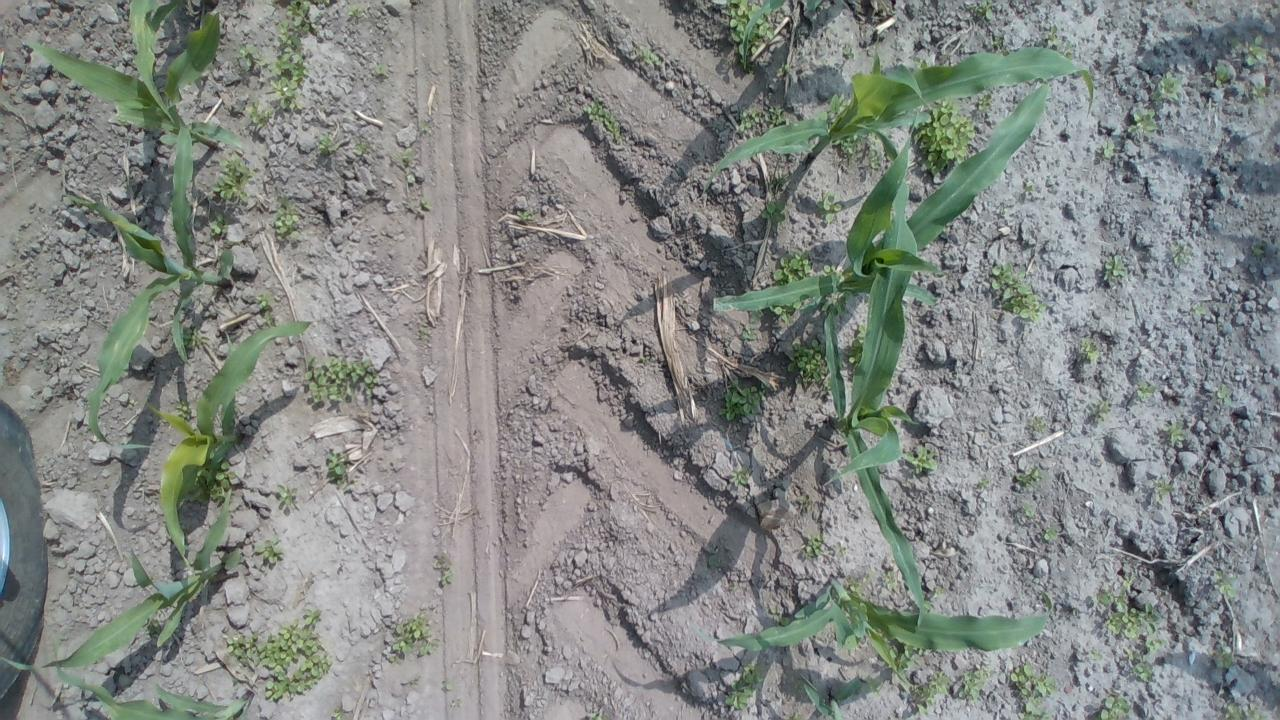Maize: (712, 82, 1050, 312), (698, 43, 1096, 190), (65, 115, 236, 452), (813, 180, 931, 630), (0, 484, 244, 674), (696, 570, 1052, 694), (145, 322, 312, 584), (19, 0, 248, 153), (49, 634, 252, 720), (738, 0, 822, 71), (795, 667, 845, 720)
Weeds: (225, 608, 333, 702), (910, 94, 976, 172), (269, 20, 315, 112), (989, 261, 1047, 322), (304, 355, 376, 404), (726, 0, 774, 62), (189, 444, 237, 503), (1009, 662, 1057, 720), (386, 612, 434, 662), (718, 380, 766, 424), (213, 154, 254, 204), (724, 664, 766, 712), (786, 340, 830, 382), (583, 99, 623, 145), (1106, 604, 1158, 639), (914, 671, 951, 716), (736, 103, 788, 132), (772, 248, 812, 284), (959, 664, 991, 706), (1096, 576, 1134, 610), (272, 198, 302, 241), (902, 445, 938, 474), (847, 323, 867, 373), (252, 535, 286, 564), (1124, 649, 1153, 682), (814, 190, 842, 224), (325, 450, 349, 488), (1094, 695, 1130, 720), (886, 640, 914, 672), (1153, 74, 1182, 103), (832, 134, 864, 160), (1220, 702, 1265, 720), (1213, 570, 1240, 600), (247, 100, 273, 128), (1102, 256, 1128, 284), (238, 44, 268, 68), (770, 300, 800, 324), (1127, 110, 1157, 134), (180, 326, 209, 350), (849, 676, 882, 697), (760, 199, 785, 226), (634, 42, 662, 66), (966, 0, 992, 25), (1153, 478, 1176, 506), (823, 293, 849, 317), (1246, 36, 1266, 66), (255, 293, 272, 328), (208, 212, 230, 238), (848, 577, 872, 600), (1162, 421, 1185, 445), (1213, 646, 1236, 669), (800, 536, 825, 557), (1016, 469, 1042, 489), (1041, 22, 1060, 48), (1078, 340, 1100, 362), (287, 0, 311, 19), (1092, 399, 1110, 424), (169, 400, 191, 420), (1211, 64, 1231, 86), (989, 34, 1009, 56), (1170, 243, 1189, 266), (730, 465, 750, 486), (1134, 382, 1158, 399), (277, 485, 296, 506), (1146, 637, 1166, 656), (1215, 383, 1232, 404), (974, 93, 992, 112), (318, 136, 336, 154), (439, 566, 456, 585), (391, 148, 414, 162), (882, 570, 898, 590), (771, 608, 790, 624), (740, 326, 756, 344), (868, 150, 882, 170), (1252, 85, 1266, 105), (354, 143, 369, 161), (414, 198, 432, 213), (348, 4, 368, 17), (767, 173, 787, 185), (1029, 415, 1043, 432), (911, 57, 932, 68), (417, 121, 432, 136), (842, 46, 856, 62), (822, 262, 838, 276), (1102, 143, 1116, 159), (1042, 528, 1058, 541), (1064, 40, 1074, 60), (332, 707, 347, 720), (1022, 503, 1035, 518), (516, 210, 535, 220), (775, 62, 788, 76), (1192, 305, 1208, 316), (374, 64, 388, 76), (834, 544, 848, 556), (590, 711, 608, 720), (1088, 650, 1103, 660), (933, 586, 945, 598), (1024, 183, 1036, 194), (912, 646, 925, 656), (822, 380, 832, 392), (1254, 245, 1264, 256), (406, 174, 416, 184), (792, 713, 804, 720), (640, 356, 650, 364), (978, 480, 988, 487), (1000, 207, 1009, 214), (318, 0, 330, 5), (799, 496, 807, 503)
